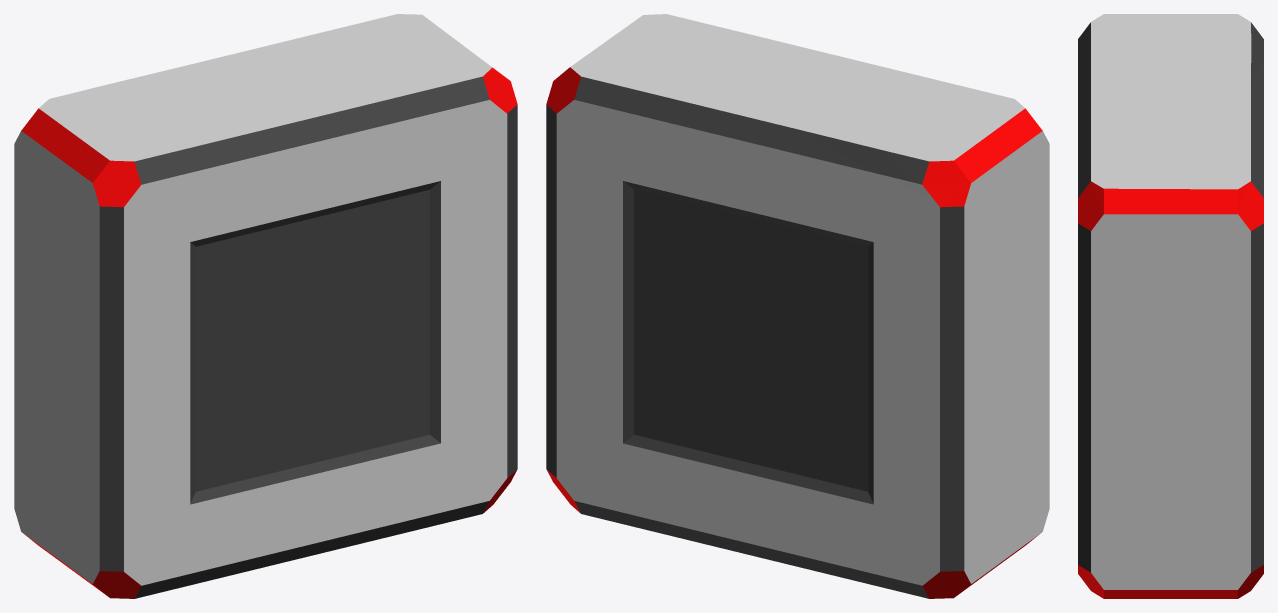
File: mineralTransporter.obj
3 renders of one model, left to right at view 1: azimuth 30°, elevation 25°; view 2: azimuth 150°, elevation 25°; view 3: azimuth 270°, elevation 25°, orthographic. The views are drawn at different scales.
Visible parts, largest first — view 1: mineralContainer; view 2: mineralContainer; view 3: mineralContainer.
Boxes of the visible parts, bbox=[...] form: mineralContainer: bbox=[14, 14, 517, 598]; mineralContainer: bbox=[546, 14, 1049, 598]; mineralContainer: bbox=[1078, 14, 1263, 598].
Bounding box in the file's own units: 1.25 × 1.25 × 0.5157.
